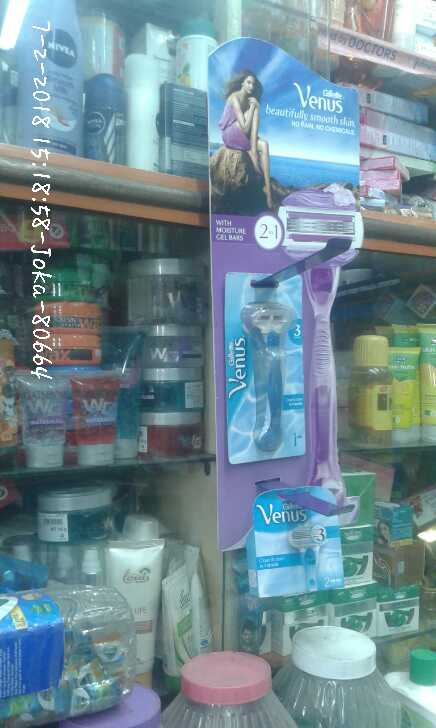venus: (218, 256, 307, 462), (249, 485, 348, 597)
